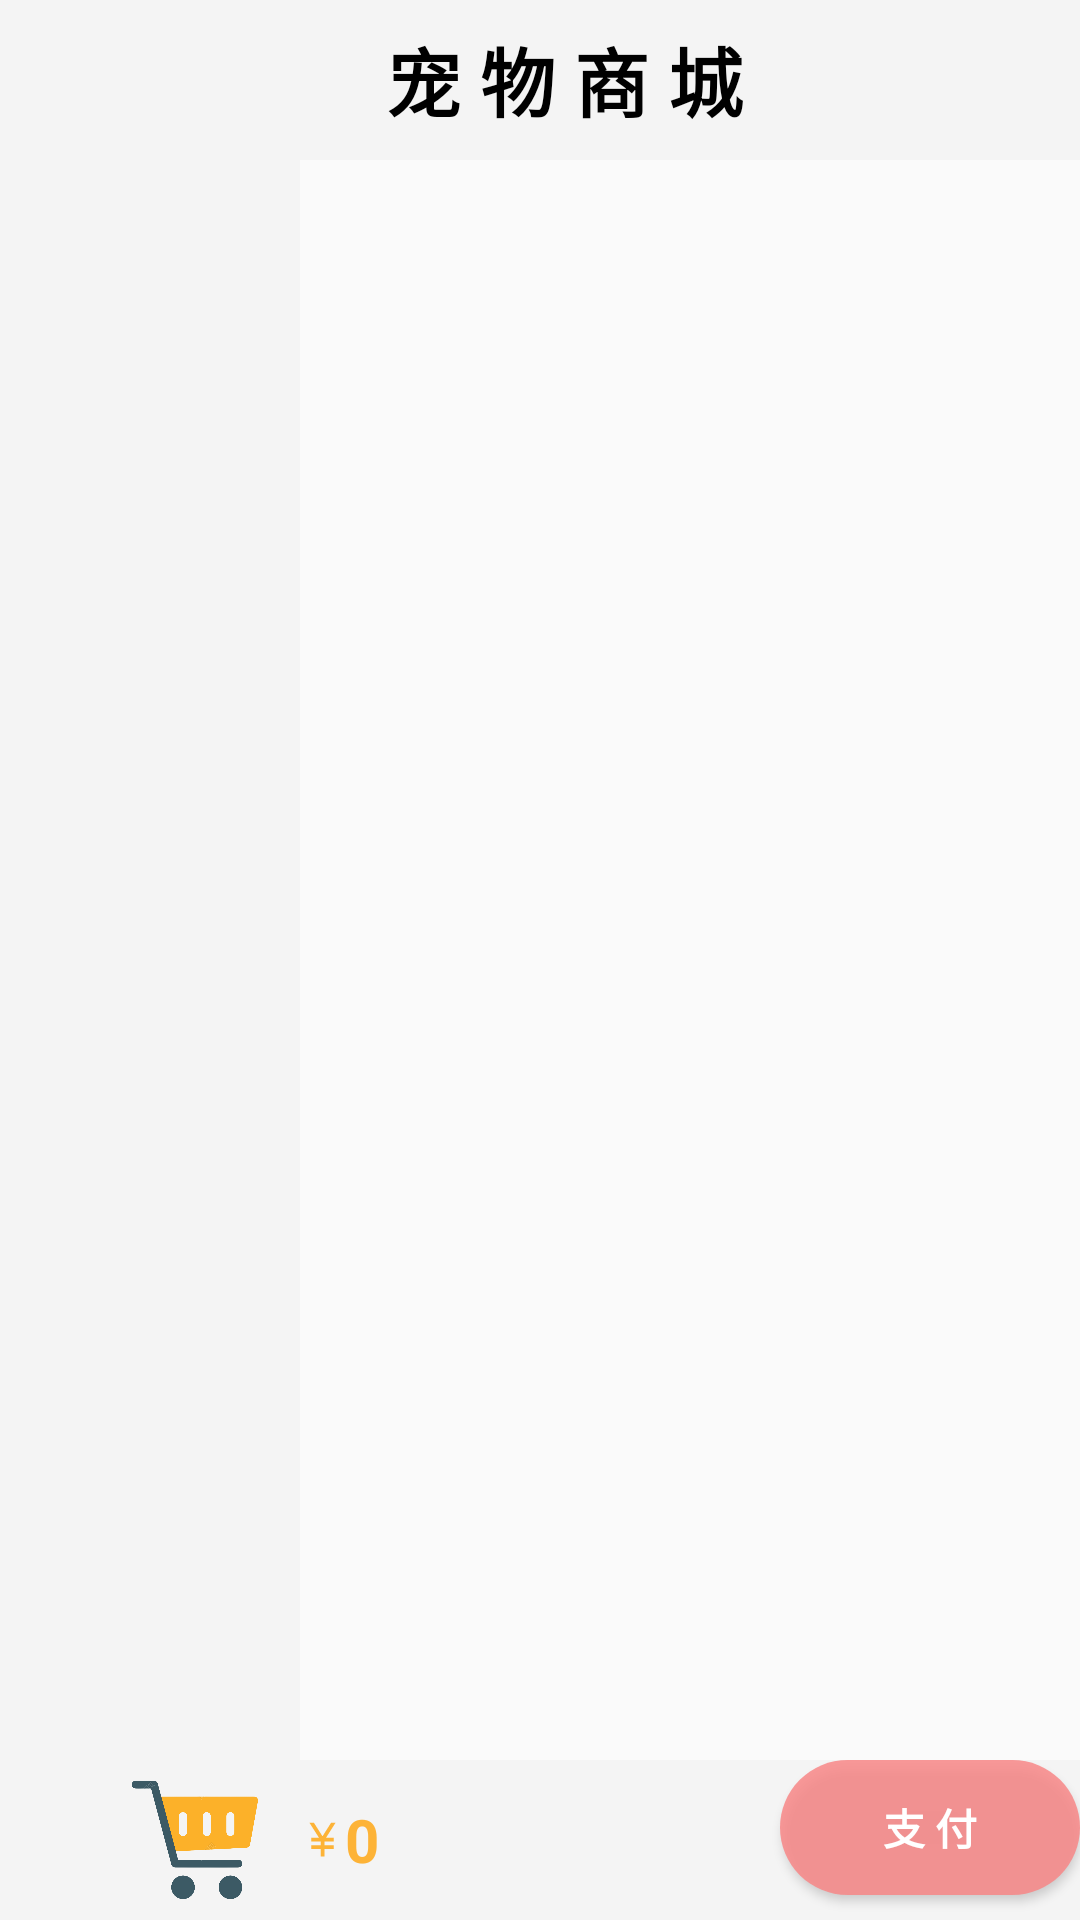

Icon click points for this 1080 × 1920 phone screenshot, format point (x, y):
cart: point (195, 1840)
